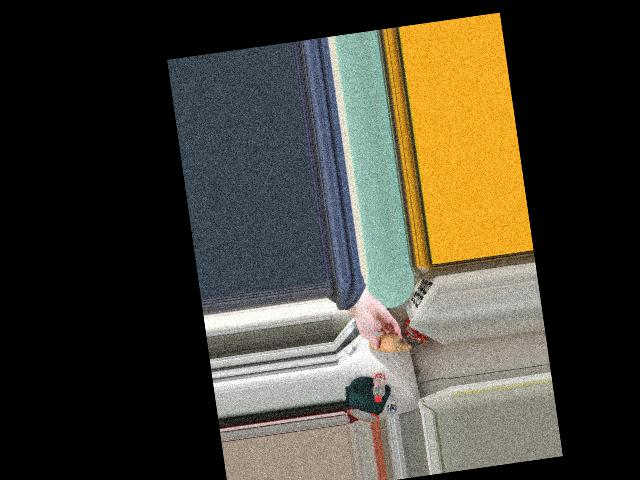sweet_potato: (370, 333, 403, 355)
